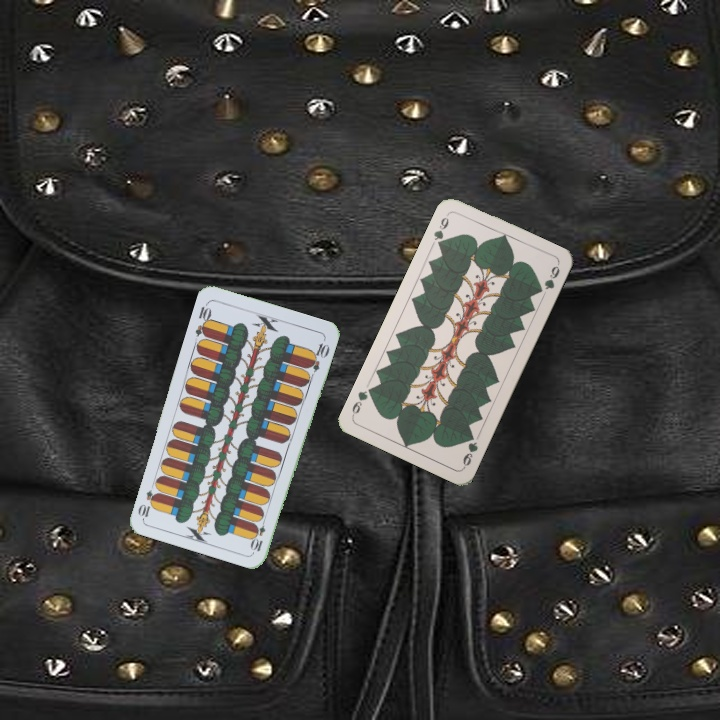E10: (191, 299, 214, 339), (248, 513, 268, 554)
G9: (428, 210, 451, 251), (459, 429, 480, 471)
